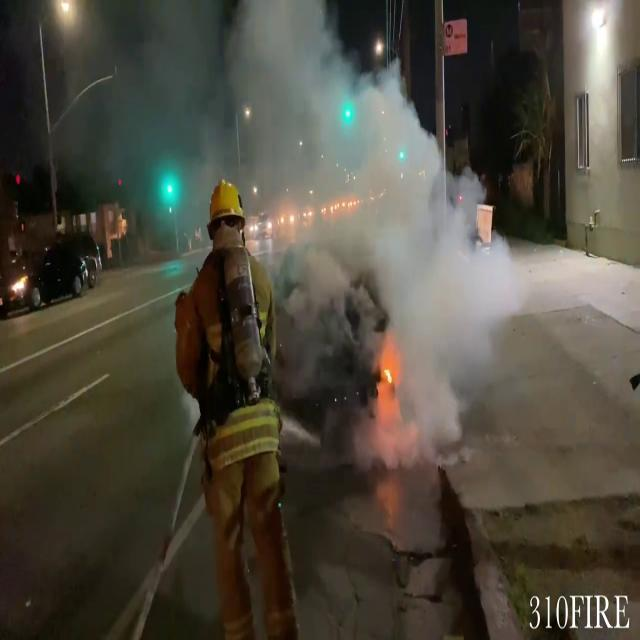Smoke: (228, 4, 507, 410)
